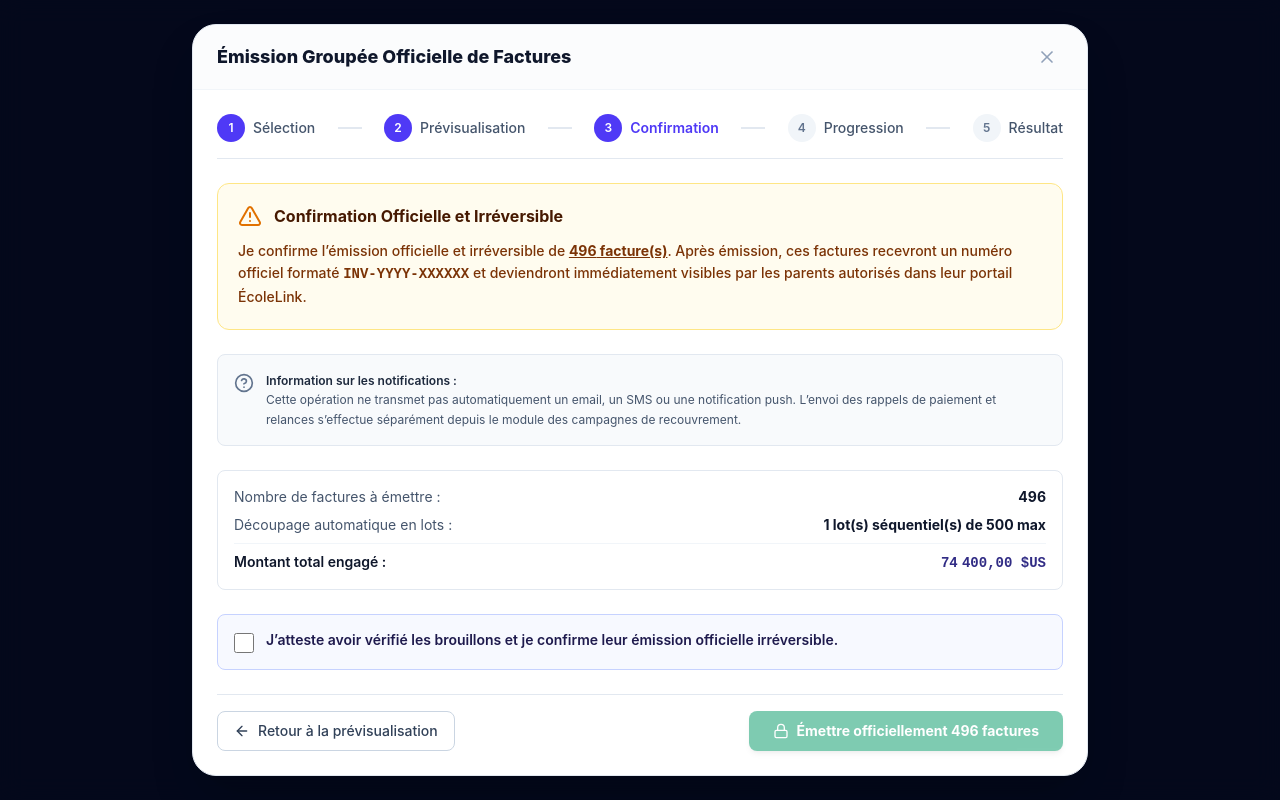
Test: LOT 2K-FIN-BULK-ISSUE-F — Suite de 60 Tests Ciblés Émission Groupée › 3. Parcours Wizard & UX › 31. Le bouton d’émission reste désactivé tant que la case n’est pas cochée
Expected: the button "Émettre officiellement 496 factures" is disabled, [749,711,1063,751]
Click the checkbox.
click(244, 643)  # box [234,633,254,653]
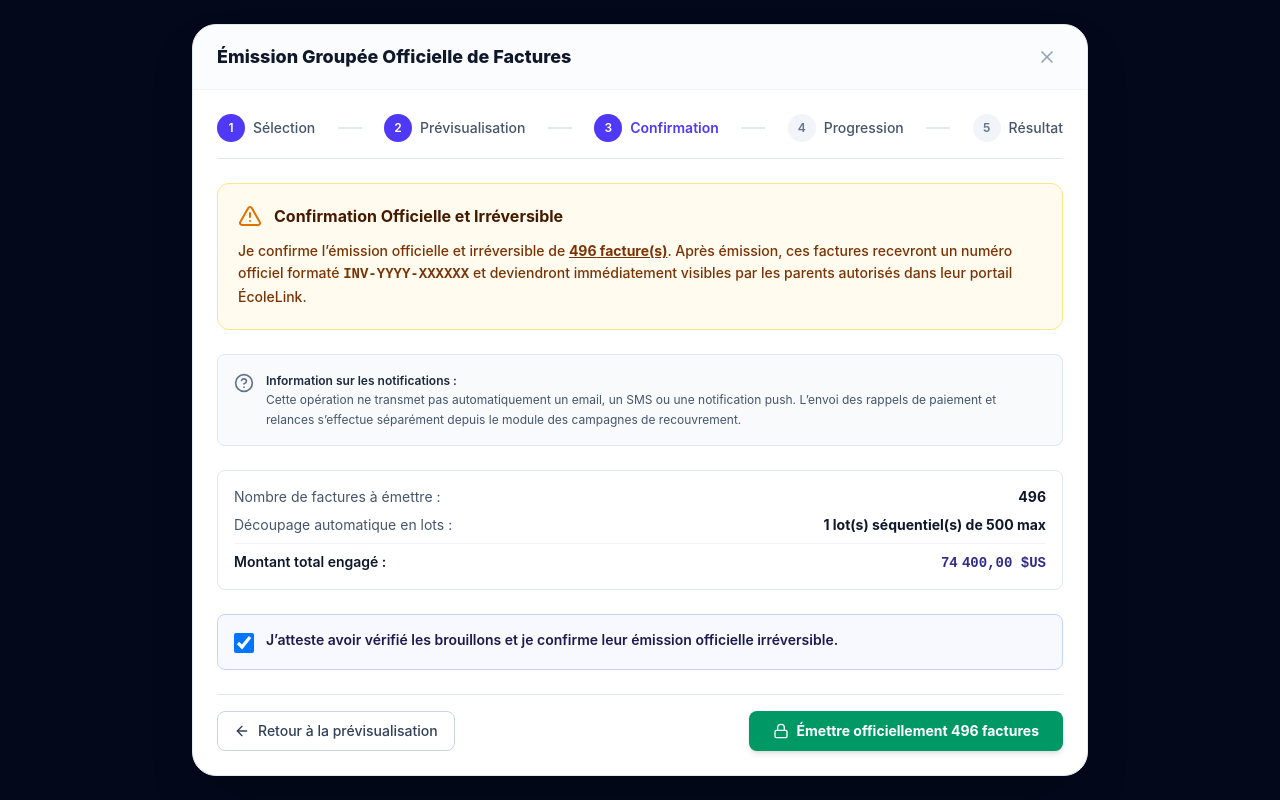
Now the button "Émettre officiellement 496 factures" is enabled, box [749,711,1063,751]
